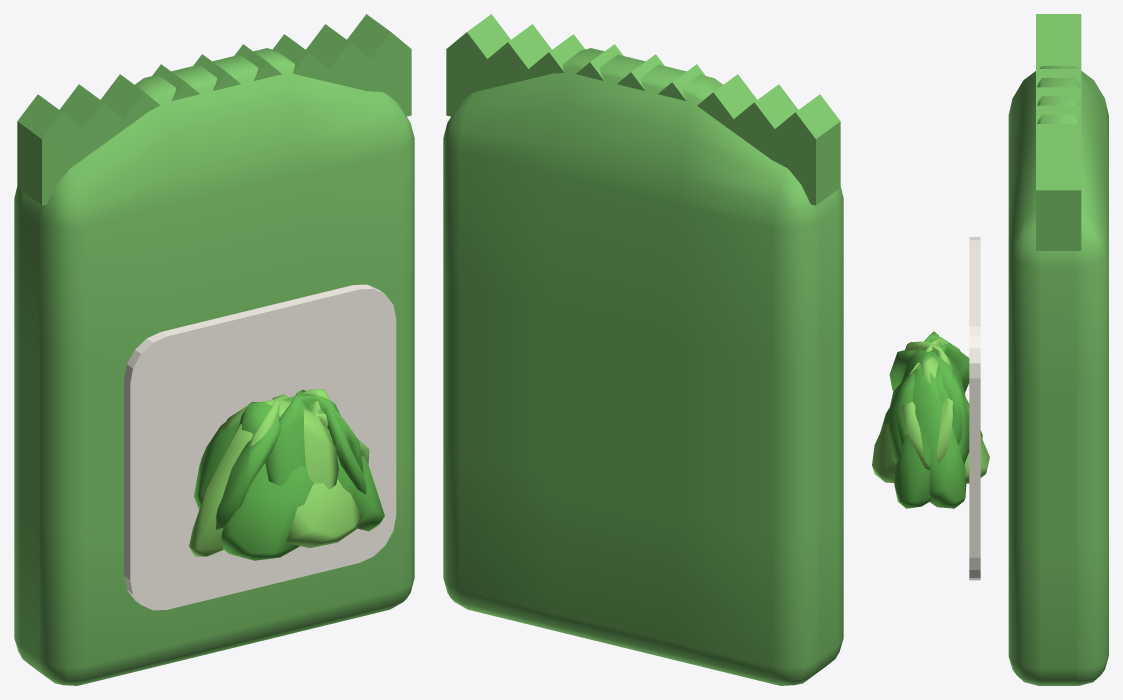
File: semente-alface.glb
3 views of the same model, side by side, from view 1: azimuth 30°, elevation 25°; view 2: azimuth 150°, elevation 25°; view 3: azimuth 270°, elevation 25° (orthographic). The views are drawn at different scales.
Parts seen in each view (by area): view 1: semente-alface; view 2: semente-alface; view 3: semente-alface.
Part boxes in pixels (x1=…): semente-alface: x1=14, y1=14, x2=414, y2=685; semente-alface: x1=443, y1=14, x2=843, y2=685; semente-alface: x1=872, y1=14, x2=1108, y2=685.
Size of the model in its own units: 0.14 by 0.208 by 0.0849.
